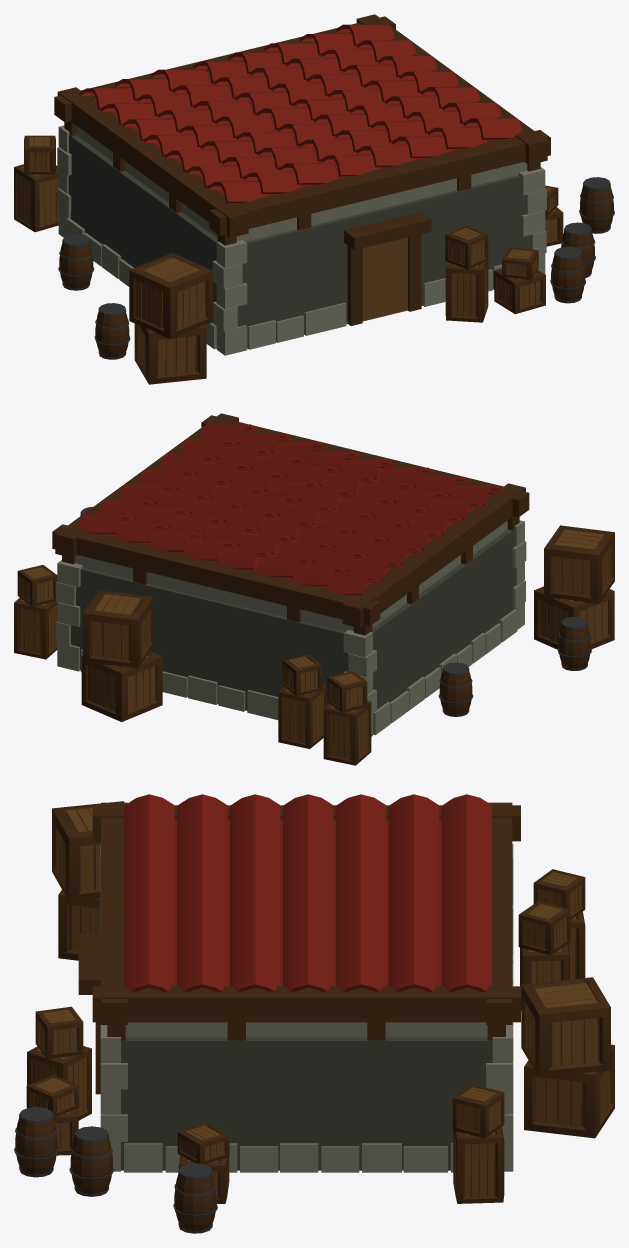
Rendered from Storage_SecondAge_Level1.obj.
The picture shows the model from 3 angles, top to bottom: view 1: azimuth 30°, elevation 25°; view 2: azimuth 150°, elevation 25°; view 3: azimuth 270°, elevation 25°; orthographic projection. The views are drawn at different scales.
Visible parts, largest first — view 1: Storage_SecondAge_Level1_Cube.210; view 2: Storage_SecondAge_Level1_Cube.210; view 3: Storage_SecondAge_Level1_Cube.210.
Part boxes in pixels (x1,y1,x2,y2): Storage_SecondAge_Level1_Cube.210: (14, 14, 614, 384); Storage_SecondAge_Level1_Cube.210: (14, 413, 614, 765); Storage_SecondAge_Level1_Cube.210: (14, 794, 614, 1233).
Bounding box in the file's own units: 1.72 × 0.5016 × 1.38.
